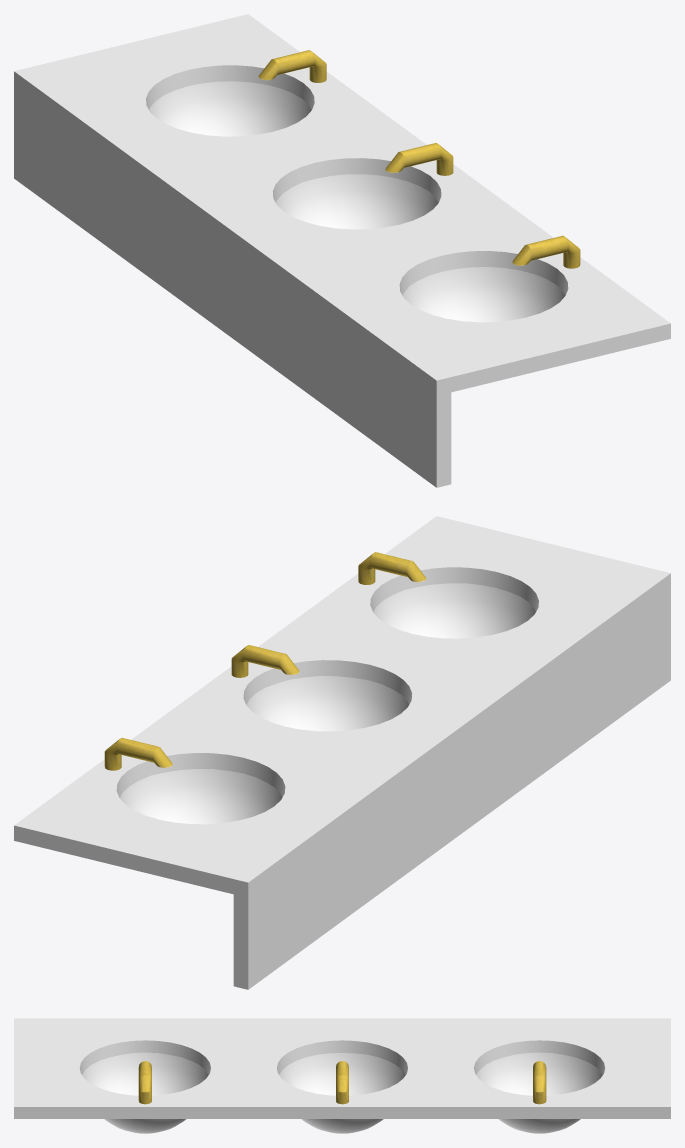
File: bathroom_sink.gltf
3 views of the same model, one above another, from view 1: azimuth 30°, elevation 25°; view 2: azimuth 150°, elevation 25°; view 3: azimuth 270°, elevation 25° (orthographic). The views are drawn at different scales.
Visible parts, largest first — view 1: Cube.013; view 2: Cube.013; view 3: Cube.013.
Part boxes in pixels (left/top/right/bottom): Cube.013: left=14, top=14, right=670, bottom=487; Cube.013: left=14, top=516, right=670, bottom=989; Cube.013: left=14, top=1018, right=670, bottom=1133.
Bounding box in the file's own units: 1.6 × 0.9 × 5.
Materials: 1 (1 with a texture image).
